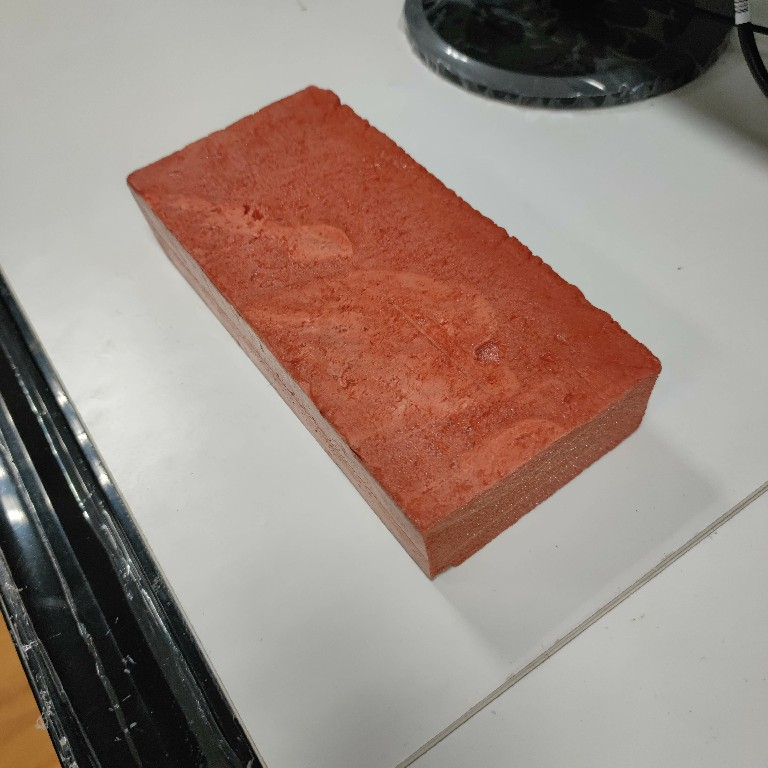brick: (120, 82, 666, 587)
